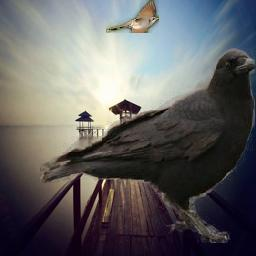Crow: (41, 49, 256, 244)
Cuckoo: (107, 1, 160, 34)
